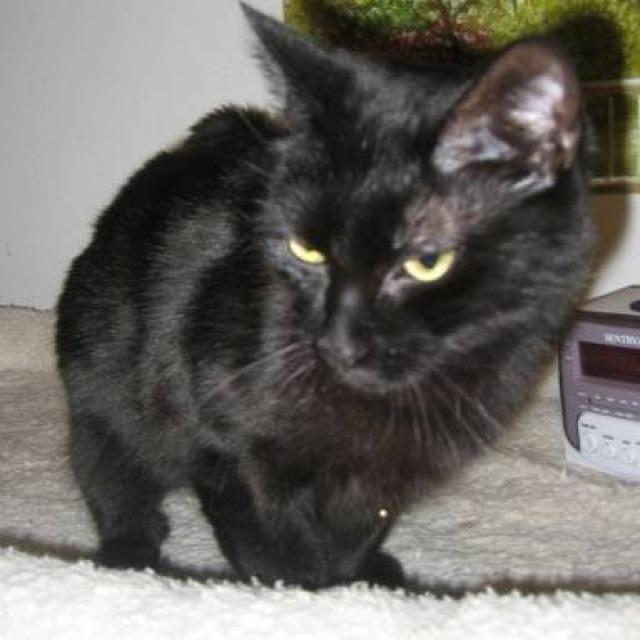cat: (52, 0, 600, 595)
